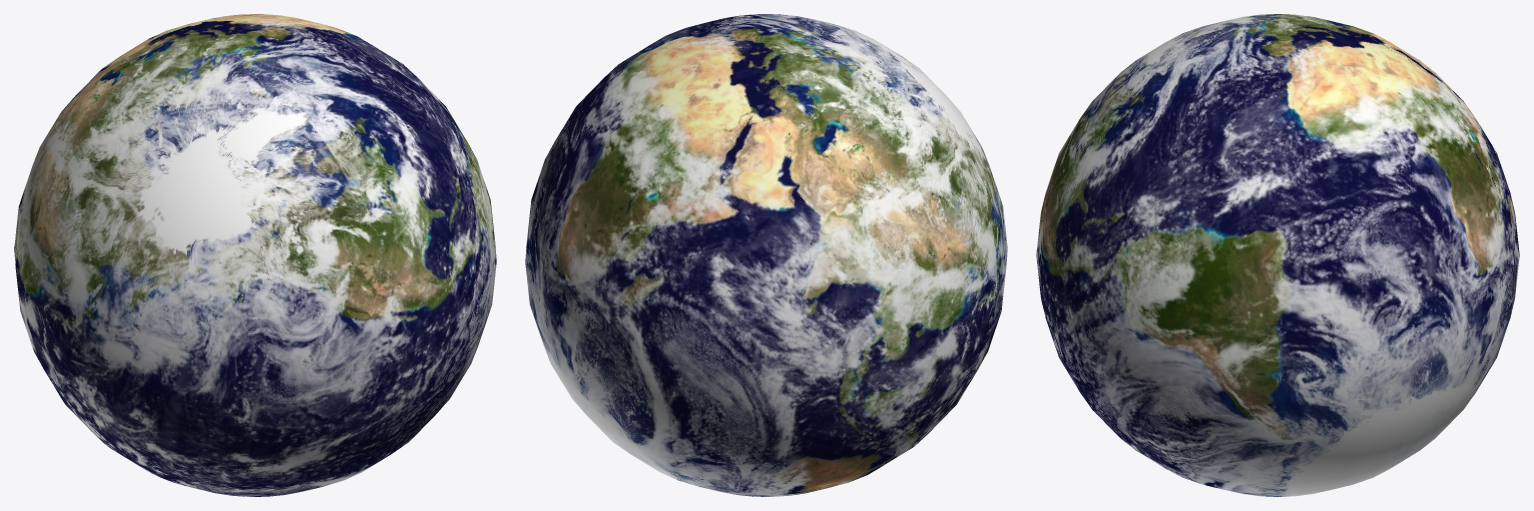
The model's file is planet.obj.
3 renders of one model, left to right at view 1: azimuth 30°, elevation 25°; view 2: azimuth 150°, elevation 25°; view 3: azimuth 270°, elevation 25°, orthographic.
Parts seen in each view (by area): view 1: Sphere; view 2: Sphere; view 3: Sphere.
Part boxes in pixels (box(x1,y1,x2,y2)): Sphere: box(14, 14, 496, 496); Sphere: box(525, 14, 1007, 496); Sphere: box(1036, 14, 1519, 496).
Size of the model in its own units: 4.16 by 4.16 by 4.16.
